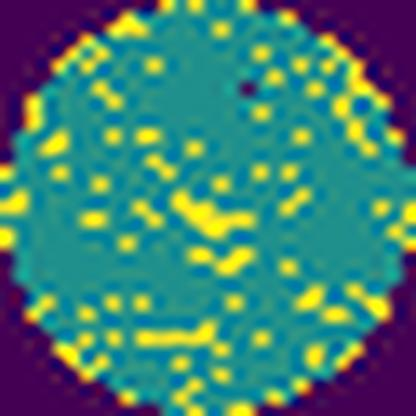Center: (165, 192, 257, 282)
